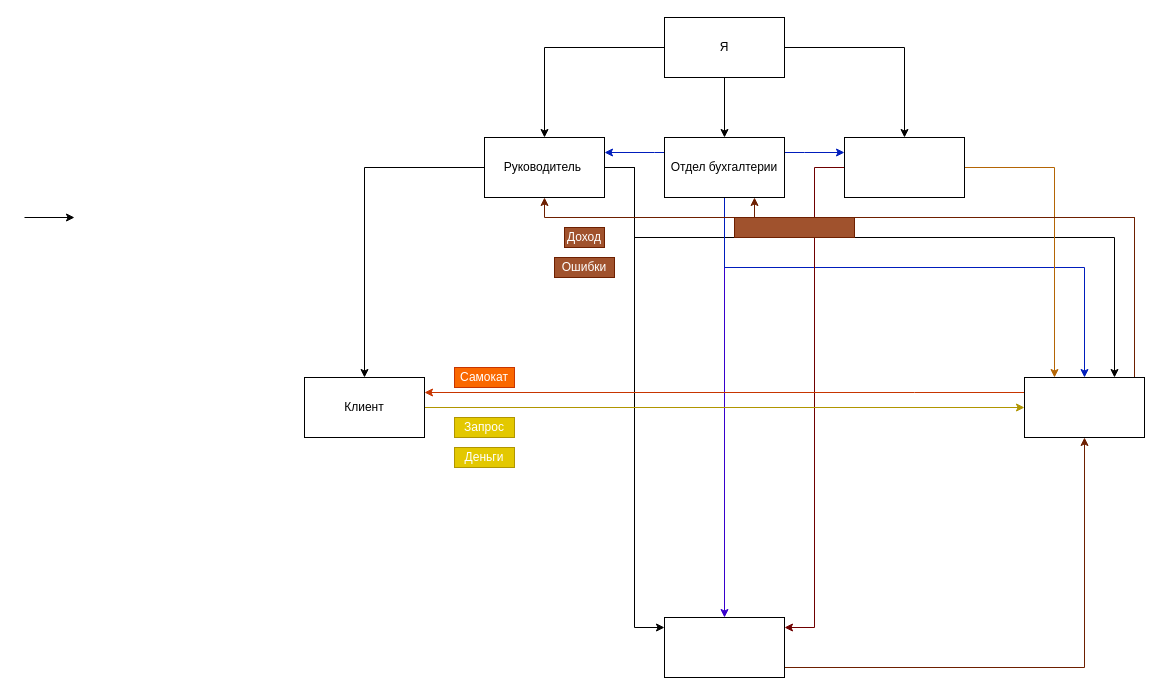
The diagram is 1162 pixels wide and 695 high, and some of its shapes have lost their labels. Each missing label, with the box of its shape:
Приложение: (1024, 376, 1144, 438)
Технический центр: (664, 616, 784, 678)
Финансовый отчет: (734, 216, 854, 238)
Юридический отдел: (844, 136, 964, 198)
